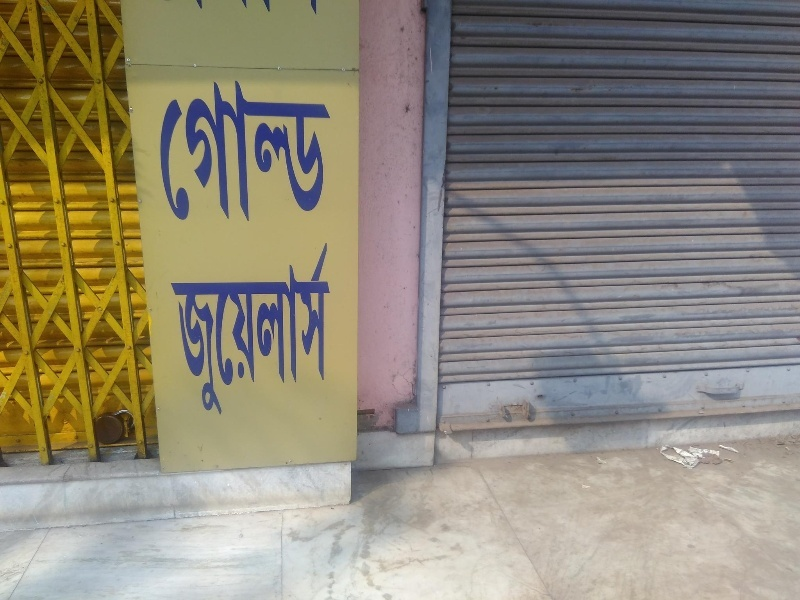text: (177, 242, 192, 422), (193, 242, 208, 422), (209, 242, 224, 422), (225, 242, 240, 422), (241, 242, 256, 422), (257, 242, 272, 422), (273, 242, 288, 422), (289, 242, 304, 422), (305, 242, 320, 422), (161, 80, 176, 222), (177, 80, 192, 222), (193, 80, 208, 222), (209, 80, 224, 222), (225, 80, 240, 222), (241, 80, 256, 222), (257, 80, 272, 222), (273, 80, 288, 222), (289, 80, 304, 222), (305, 80, 320, 222), (321, 80, 336, 222), (165, 242, 176, 422), (321, 242, 332, 422), (158, 80, 160, 222), (193, 1, 208, 17), (209, 1, 224, 17), (225, 1, 240, 17), (241, 1, 256, 17), (257, 1, 272, 17), (273, 1, 288, 17), (289, 1, 304, 17), (305, 1, 320, 17), (321, 1, 334, 17), (180, 1, 192, 17)
